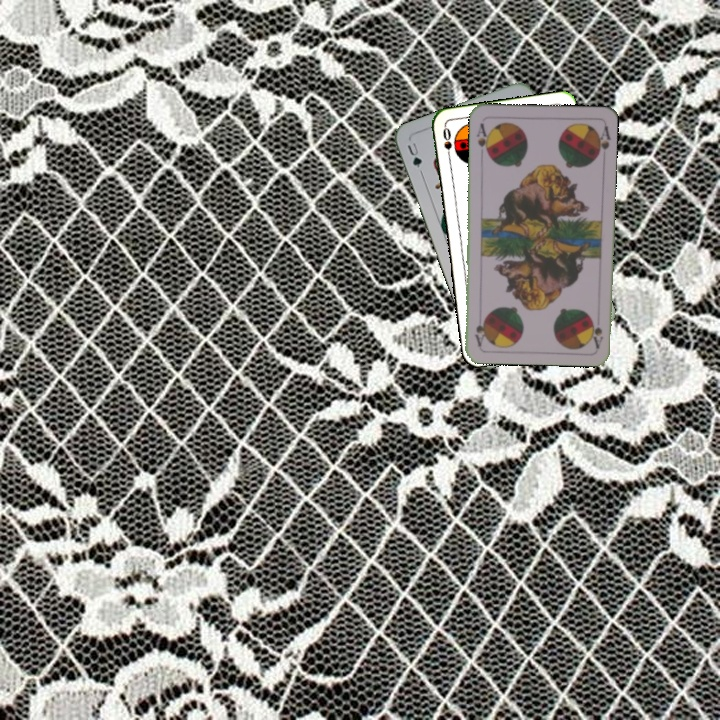GU: (403, 138, 424, 171)
SA: (473, 119, 492, 159), (588, 315, 606, 350)
SO: (439, 123, 455, 164)
